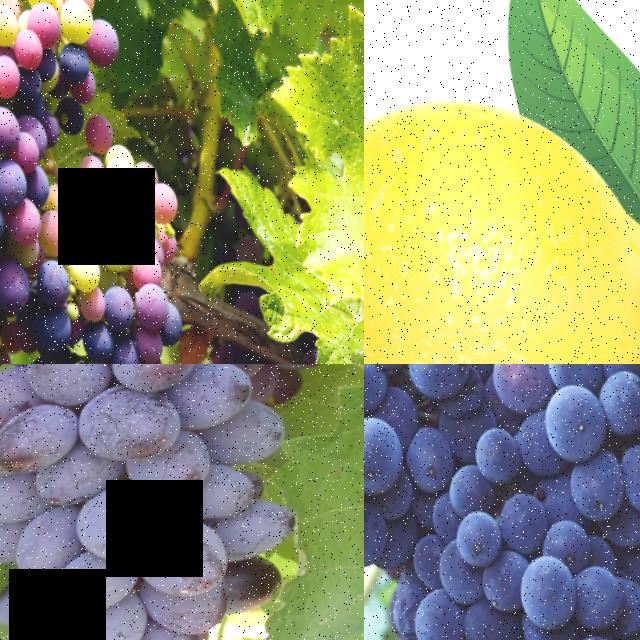grapes: (0, 364, 340, 640), (364, 364, 640, 640), (0, 0, 93, 333), (5, 248, 218, 364)
lemon: (364, 43, 640, 364)
